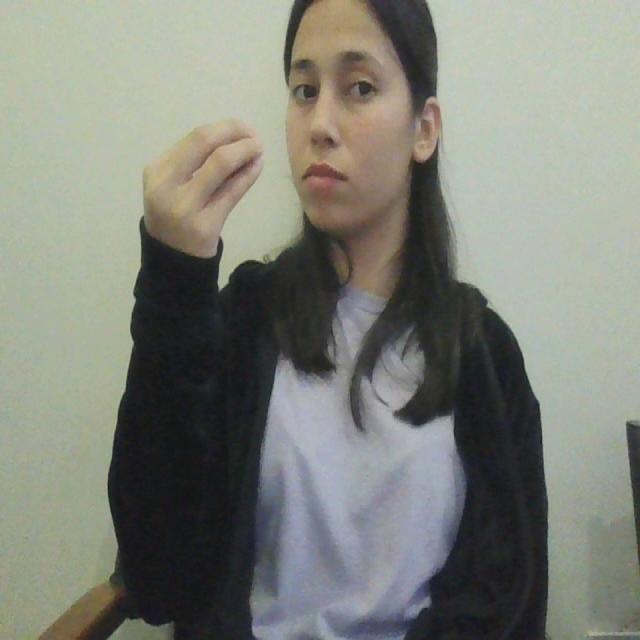Yemek: (135, 111, 339, 215)
